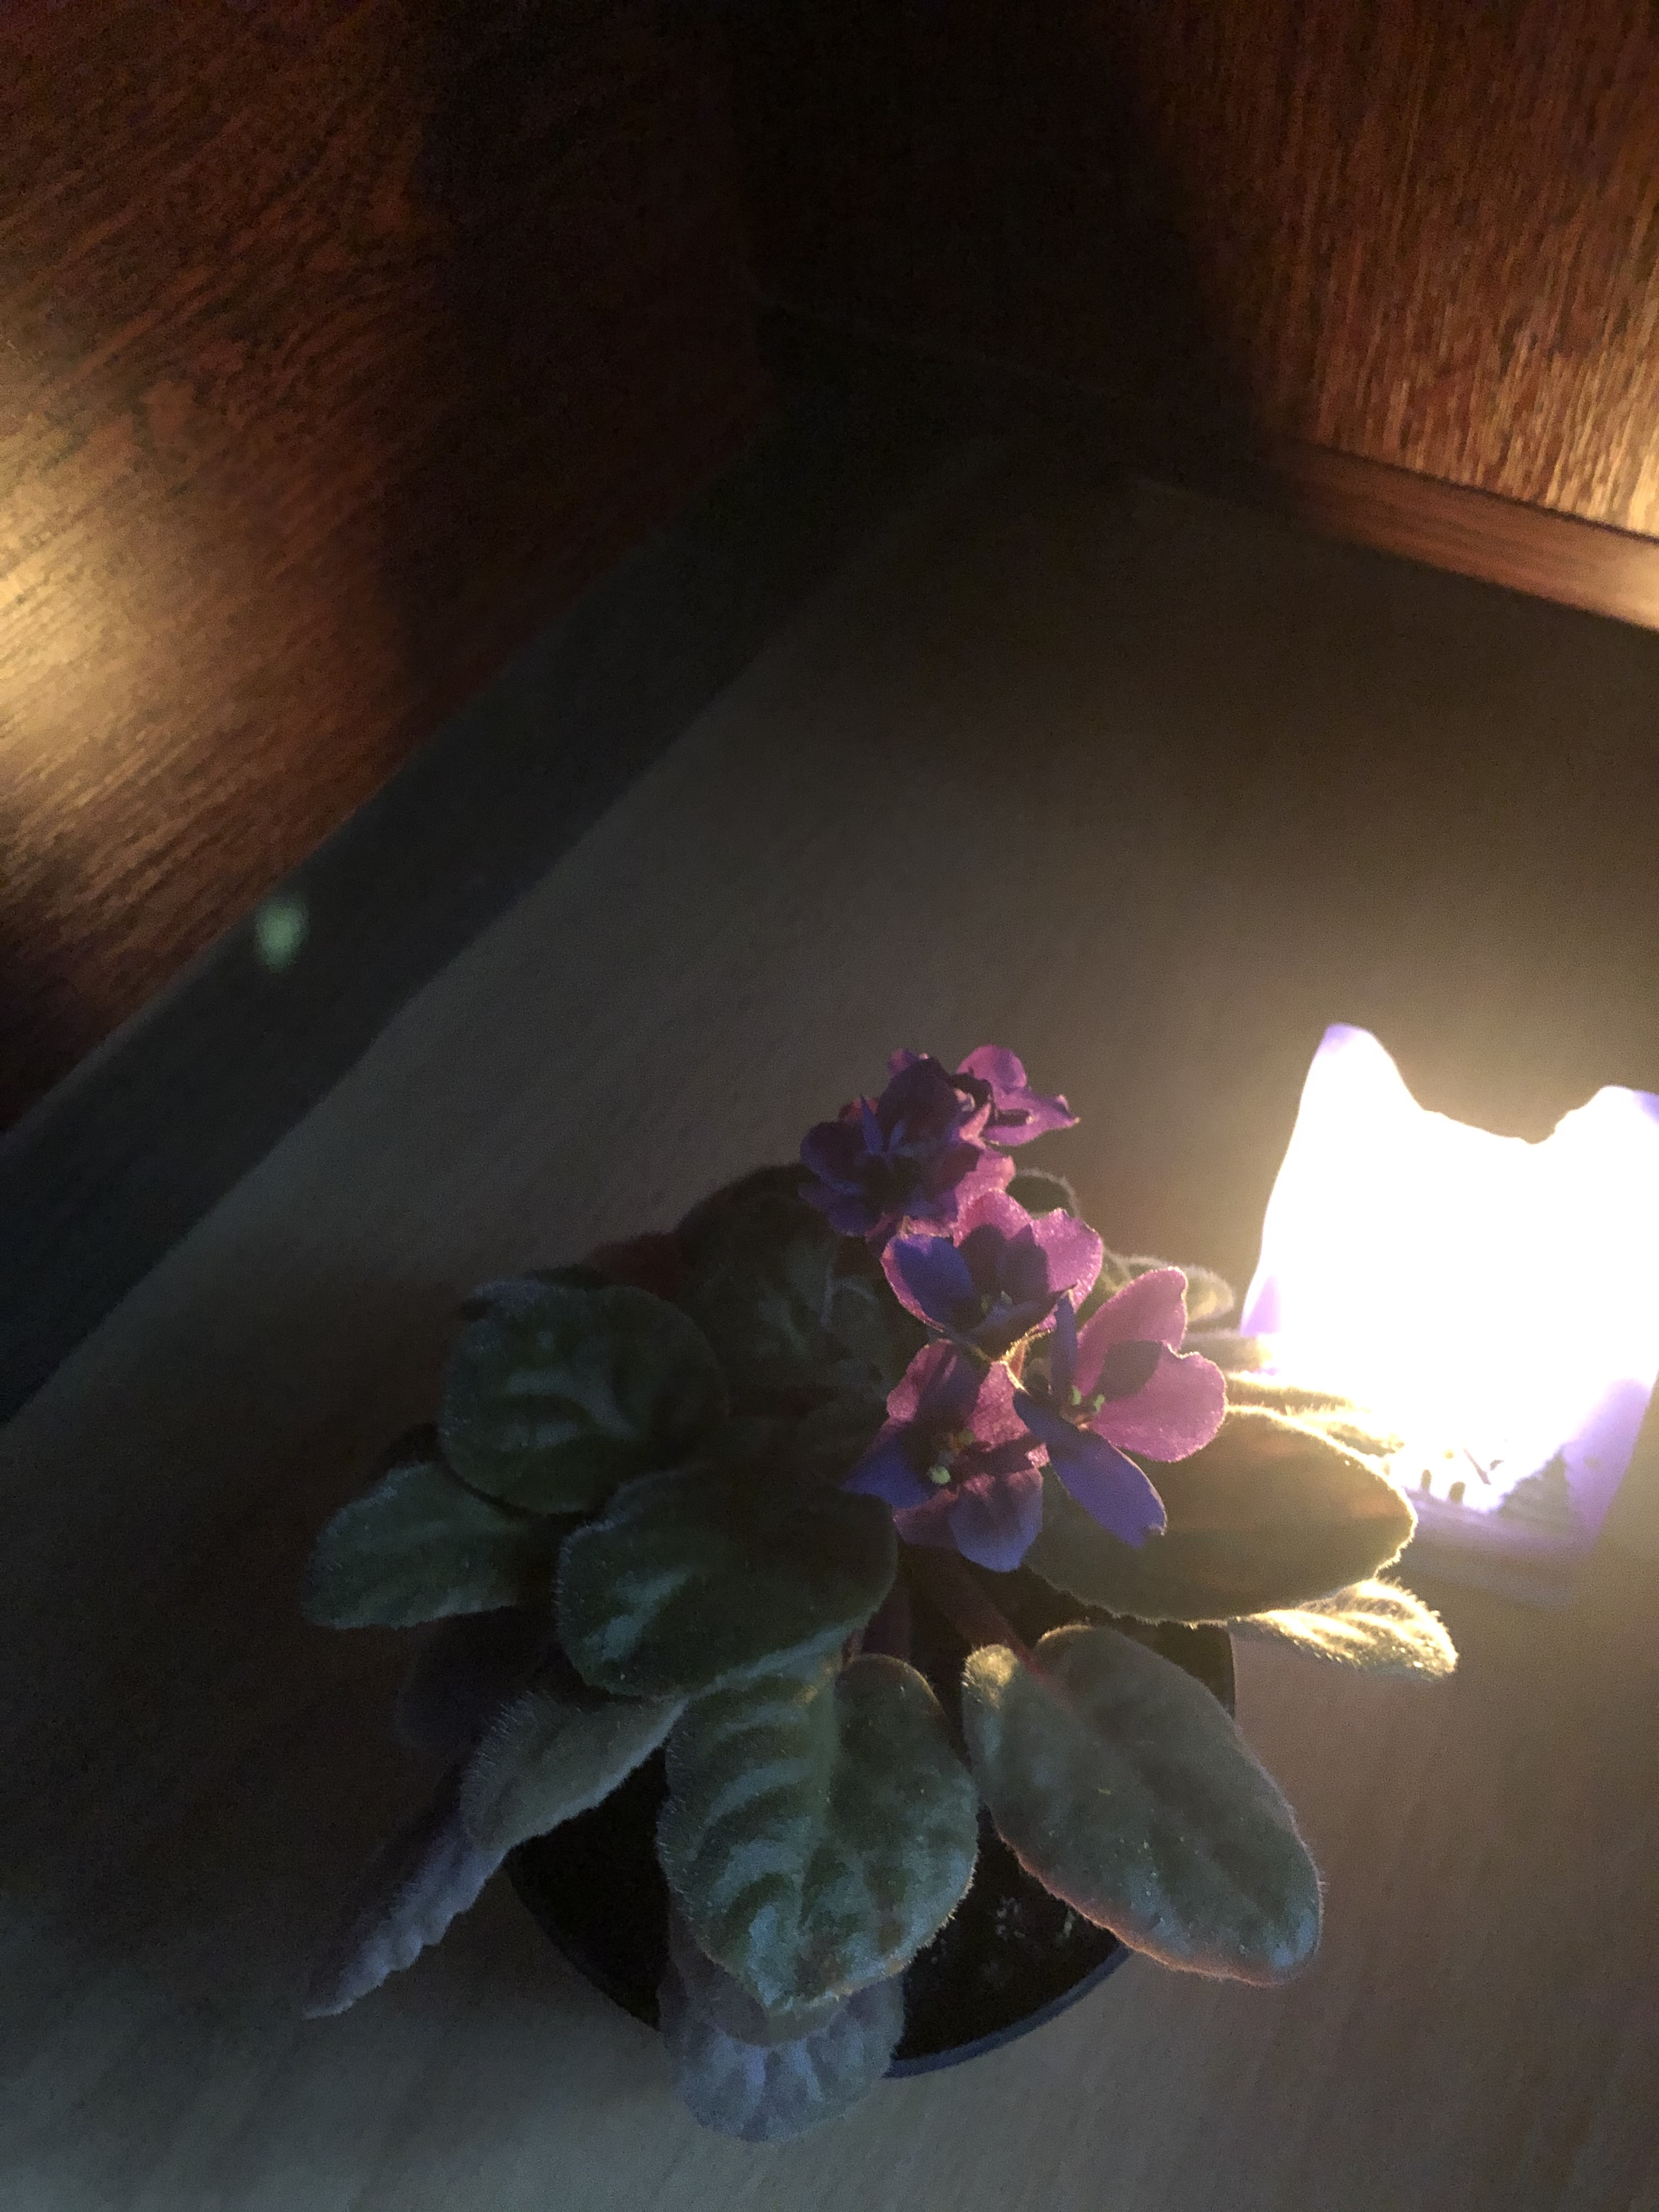ignore: (319, 1035, 1448, 2031)
